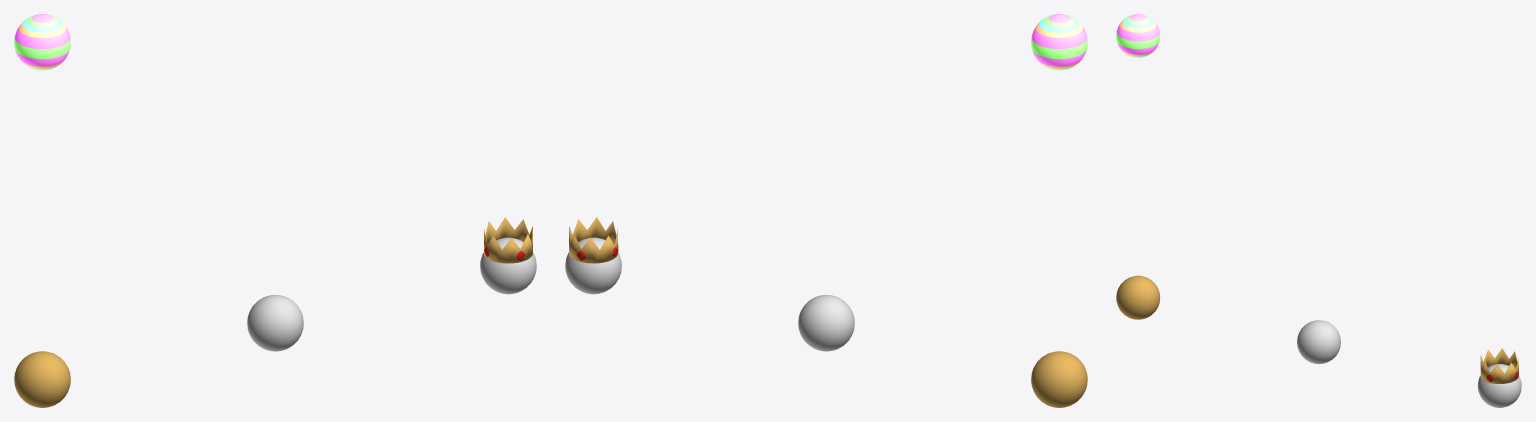
Rendered from Balls.glb.
3 renders of one model, left to right at view 1: azimuth 30°, elevation 25°; view 2: azimuth 150°, elevation 25°; view 3: azimuth 330°, elevation 25°, orthographic. The views are drawn at different scales.
Visible parts, largest first — view 1: Circle.001; view 2: Circle.001; view 3: Circle.001.
Part boxes in pixels (box(x1,y1,x2,y2)): Circle.001: box(14, 14, 536, 407); Circle.001: box(565, 14, 1087, 407); Circle.001: box(1116, 14, 1521, 407).
Bounding box in the file's own units: 1.26 × 0.9072 × 0.12.
